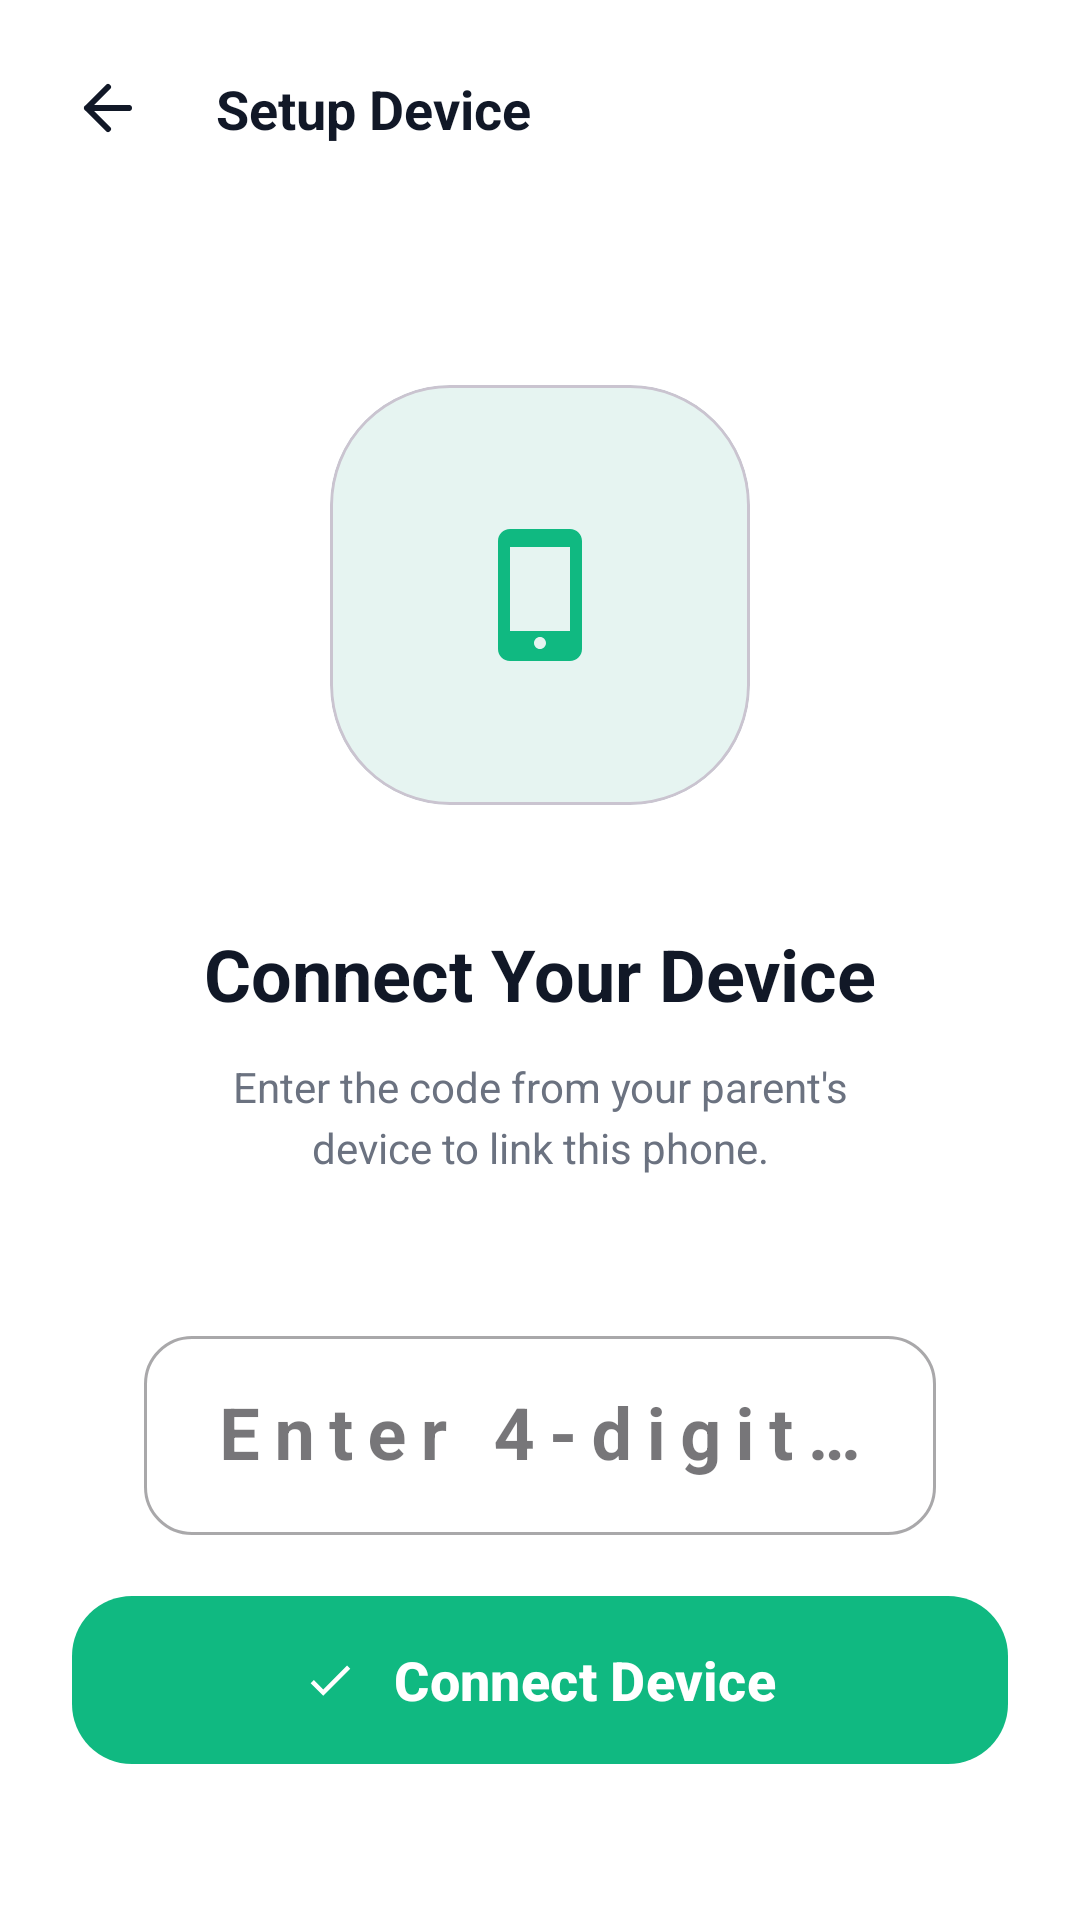

Icons on this 1080w x 1920h Android screen, each with its box as (x1, y1, x2, y2):
back: (84, 84, 132, 132)
phone: (498, 529, 582, 661)
